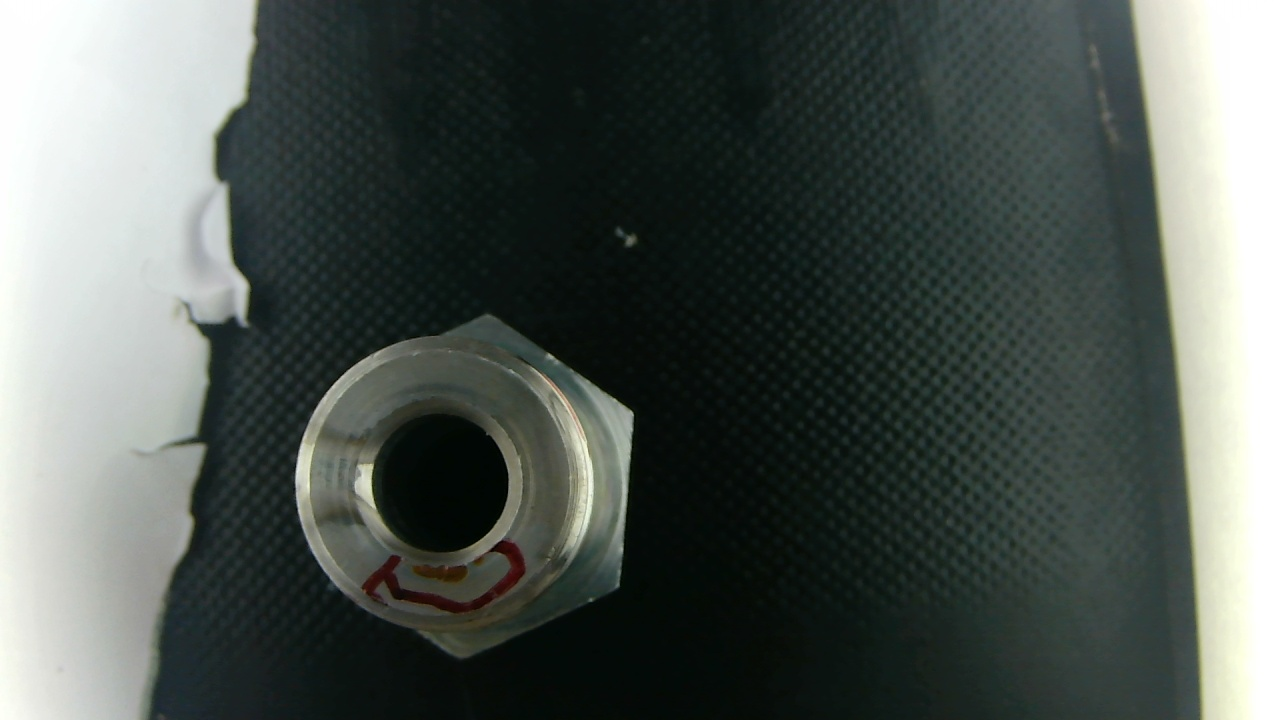blackpatch: (386, 550, 510, 607)
